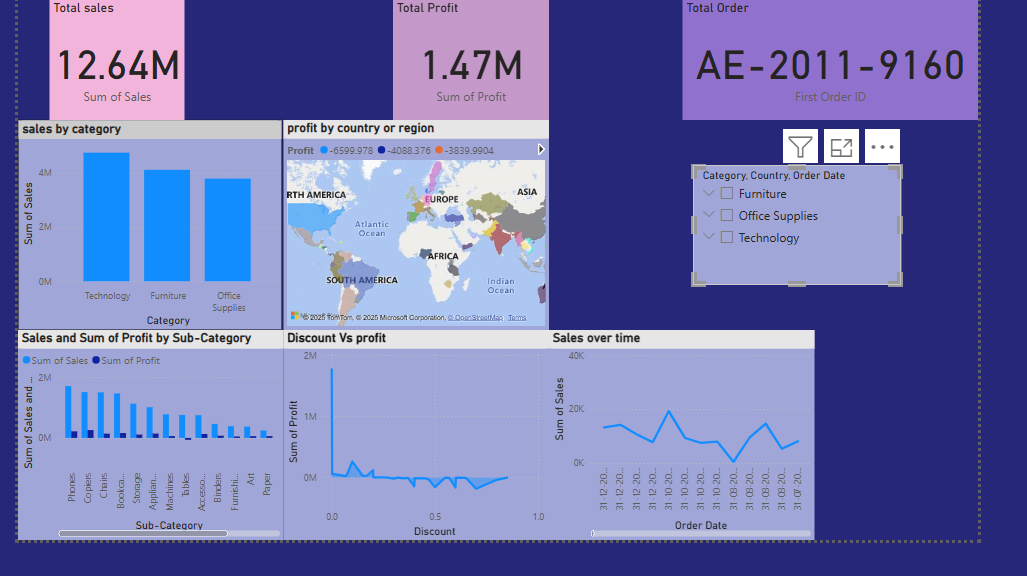

The dashboard page shown, as its layout file describes it:
{"tool":"powerbi","page":{"name":"Page 1","canvas":[1280,720],"ordinal":0},"visuals":[{"type":"columnChart","title":"sales by category","fields":{"Category":["Global_Superstore2.Category"],"Y":["Sum(Global_Superstore2.Sales)"]},"box":[0,160,352,280],"z":0},{"type":"clusteredColumnChart","title":" Sales and Sum of Profit by Sub-Category","fields":{"Category":["Global_Superstore2.Sub-Category"],"Y":["Sum(Global_Superstore2.Sales)","Sum(Global_Superstore2.Profit)"]},"box":[0,440,354,280],"z":1000},{"type":"filledMap","title":"profit by country or region","fields":{"Category":["Global_Superstore2.Country"],"Series":["Global_Superstore2.Profit"]},"box":[354,160,354,280],"z":2000},{"type":"stackedAreaChart","title":"Discount Vs profit","fields":{"Category":["Global_Superstore2.Discount"],"Y":["Sum(Global_Superstore2.Profit)"]},"box":[354,440,354,280],"z":3000},{"type":"lineChart","title":"Sales over time","fields":{"Category":["Global_Superstore2.Order Date"],"Y":["Sum(Global_Superstore2.Sales)"]},"box":[708,440,354,280],"z":3001},{"type":"card","title":"Total sales","fields":{"Values":["Sum(Global_Superstore2.Sales)"]},"box":[42,0,180,160],"z":3002},{"type":"card","title":"Total Profit","fields":{"Values":["Sum(Global_Superstore2.Profit)"]},"box":[500,0,208,160],"z":3003},{"type":"card","title":"Total Order","fields":{"Values":["Min(Global_Superstore2.Order ID)"]},"box":[886,0,394,160],"z":3004},{"type":"slicer","fields":{"Values":["Global_Superstore2.Category","Global_Superstore2.Country","Global_Superstore2.Order Date"]},"box":[900,220,278,160],"z":3005}]}

Visuals, with their boxes in screenshot pixels (x1, y1, x2, y2), scaled from the page's 1280x720 canvas onto the 1027x576 screenshot:
"sales by category" columnChart: {"left": 0, "top": 128, "right": 282, "bottom": 352}
" Sales and Sum of Profit by Sub-Category" clusteredColumnChart: {"left": 0, "top": 352, "right": 284, "bottom": 575}
"profit by country or region" filledMap: {"left": 284, "top": 128, "right": 568, "bottom": 352}
"Discount Vs profit" stackedAreaChart: {"left": 284, "top": 352, "right": 568, "bottom": 575}
"Sales over time" lineChart: {"left": 568, "top": 352, "right": 852, "bottom": 575}
"Total sales" card: {"left": 34, "top": 0, "right": 178, "bottom": 128}
"Total Profit" card: {"left": 401, "top": 0, "right": 568, "bottom": 128}
"Total Order" card: {"left": 711, "top": 0, "right": 1026, "bottom": 128}
slicer - Global_Superstore2.Category x Global_Superstore2.Country: {"left": 722, "top": 176, "right": 945, "bottom": 304}
